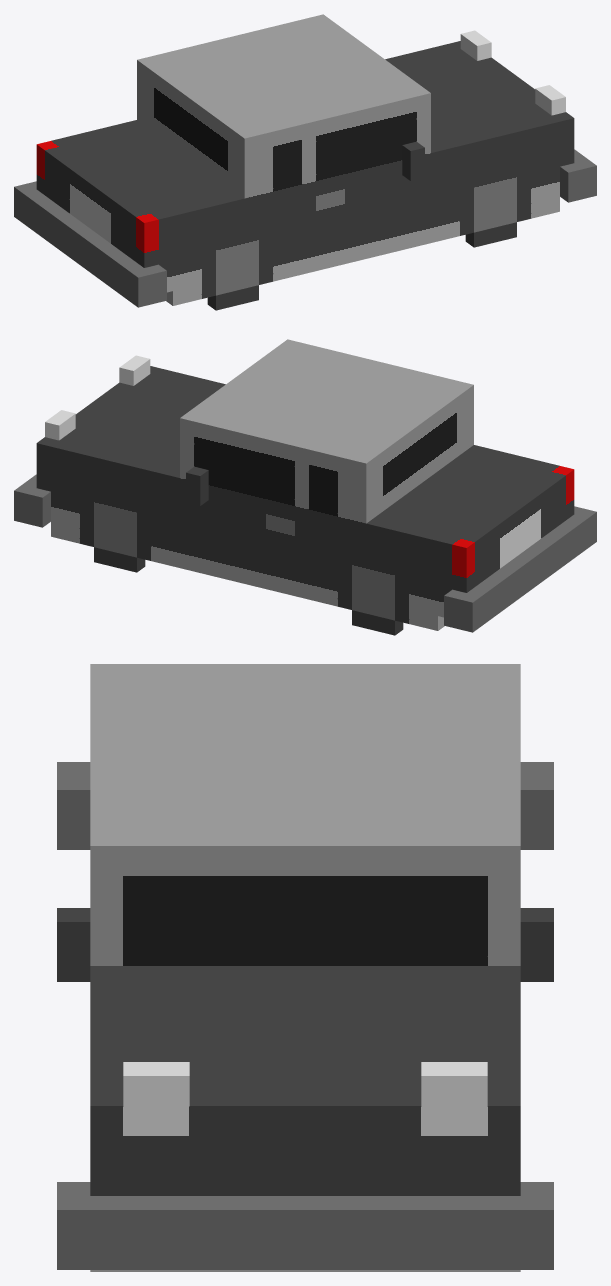
Rendered from veh_car3.dae.
3 renders of one model, top to bottom at view 1: azimuth 30°, elevation 25°; view 2: azimuth 150°, elevation 25°; view 3: azimuth 270°, elevation 25°, orthographic. The views are drawn at different scales.
Parts seen in each view (by area): view 1: veh_car3; view 2: veh_car3; view 3: veh_car3.
Part boxes in pixels (bbox=[...]): veh_car3: bbox=[14, 14, 596, 310]; veh_car3: bbox=[14, 339, 596, 635]; veh_car3: bbox=[57, 664, 553, 1271].
Bounding box in the file's own units: 3.2 × 1.5 × 1.1.
